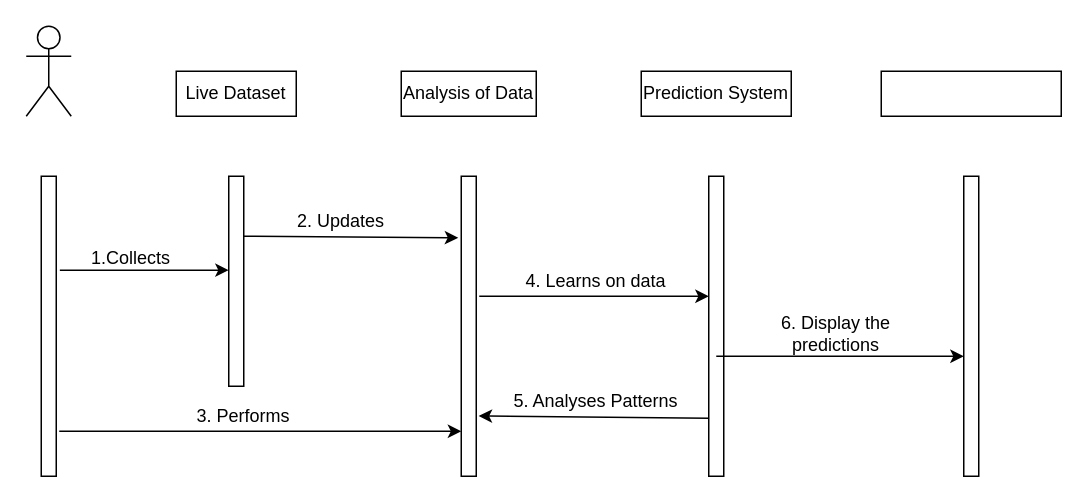
This 1088x503 diagram has some shape labels left out. Here are the shapes that lost their labels. From the top down, the centre of each, then its label:
At (48,70): "User".
At (970,93): "Display Final List".
